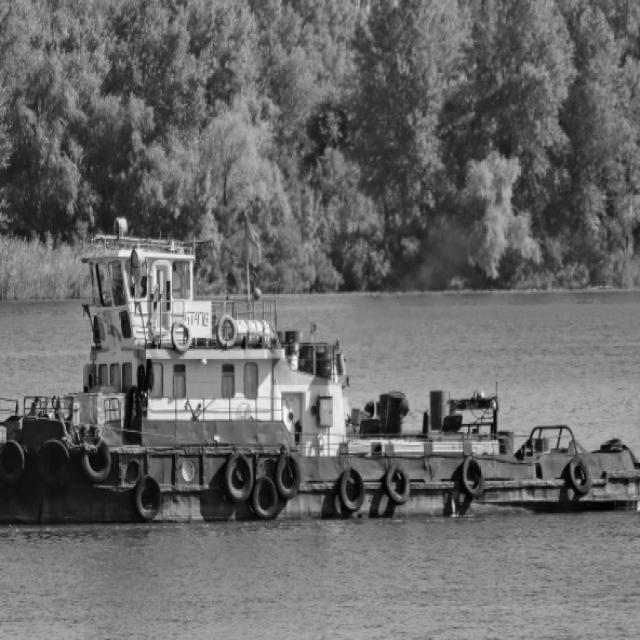tugboat: (1, 206, 640, 534)
